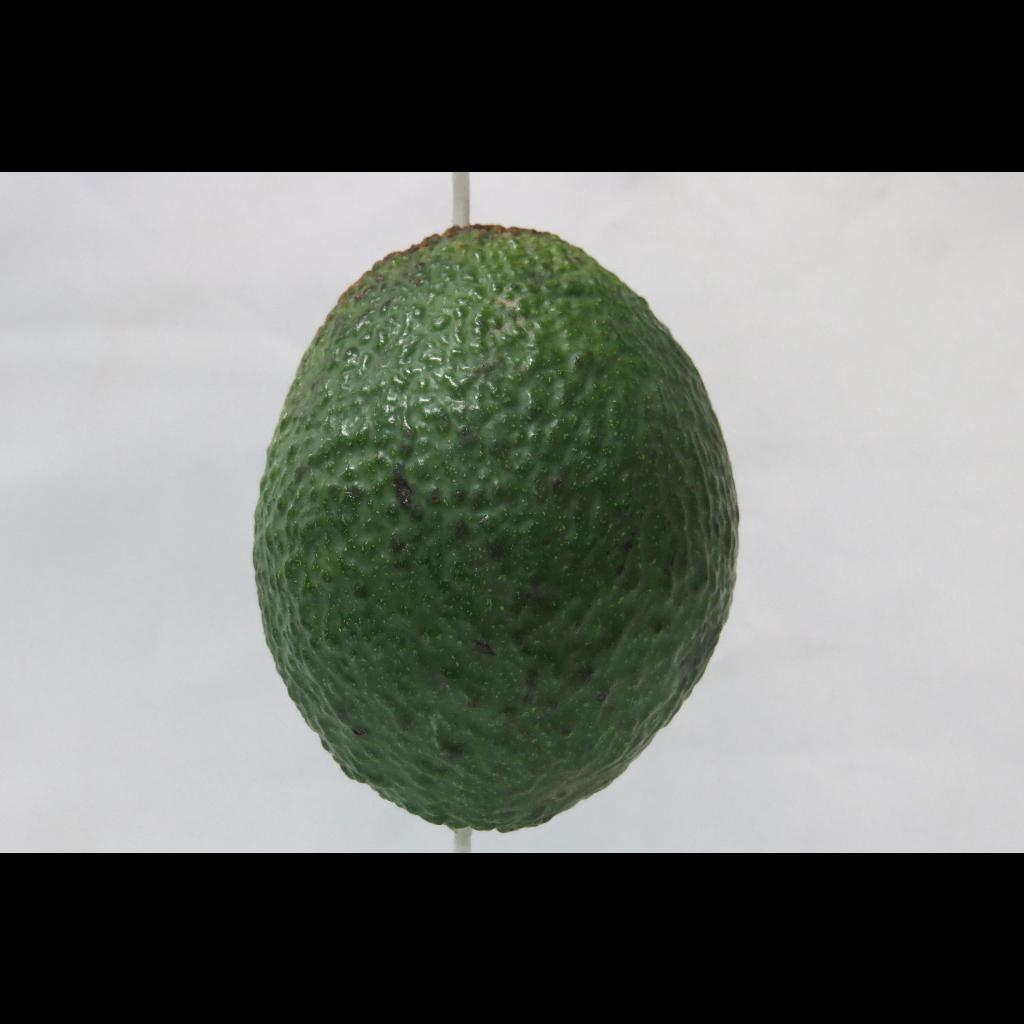Healthy: (210, 185, 776, 837)
